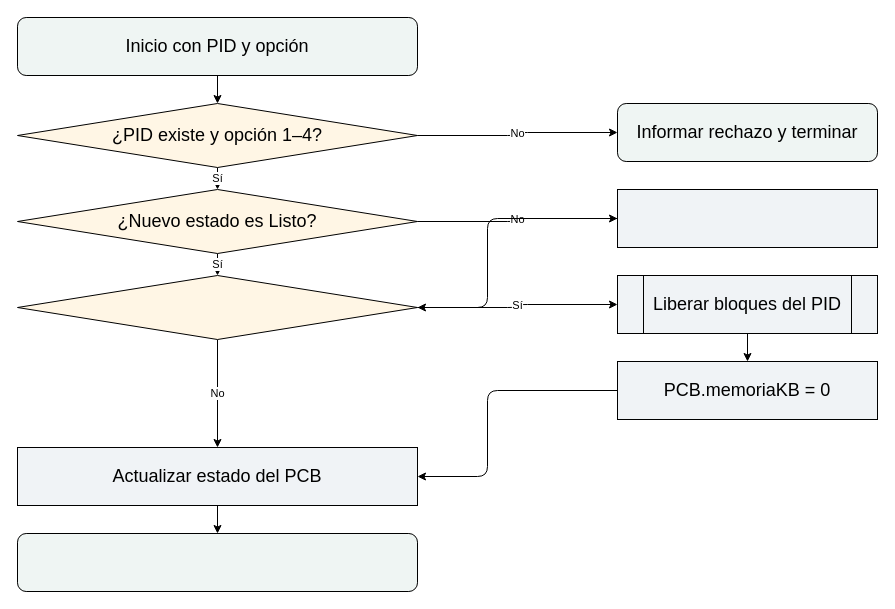
The diagram is 895 pixels wide and 609 high, and some of its shapes have lost their labels. The box of each missing label's shape, as (x1, y1, x2, y2) in pixels:
Confirmar actualización: (16, 532, 418, 592)
Retirar PID de cola: (616, 188, 878, 248)
¿Nuevo estado es Terminado?: (16, 274, 418, 340)
